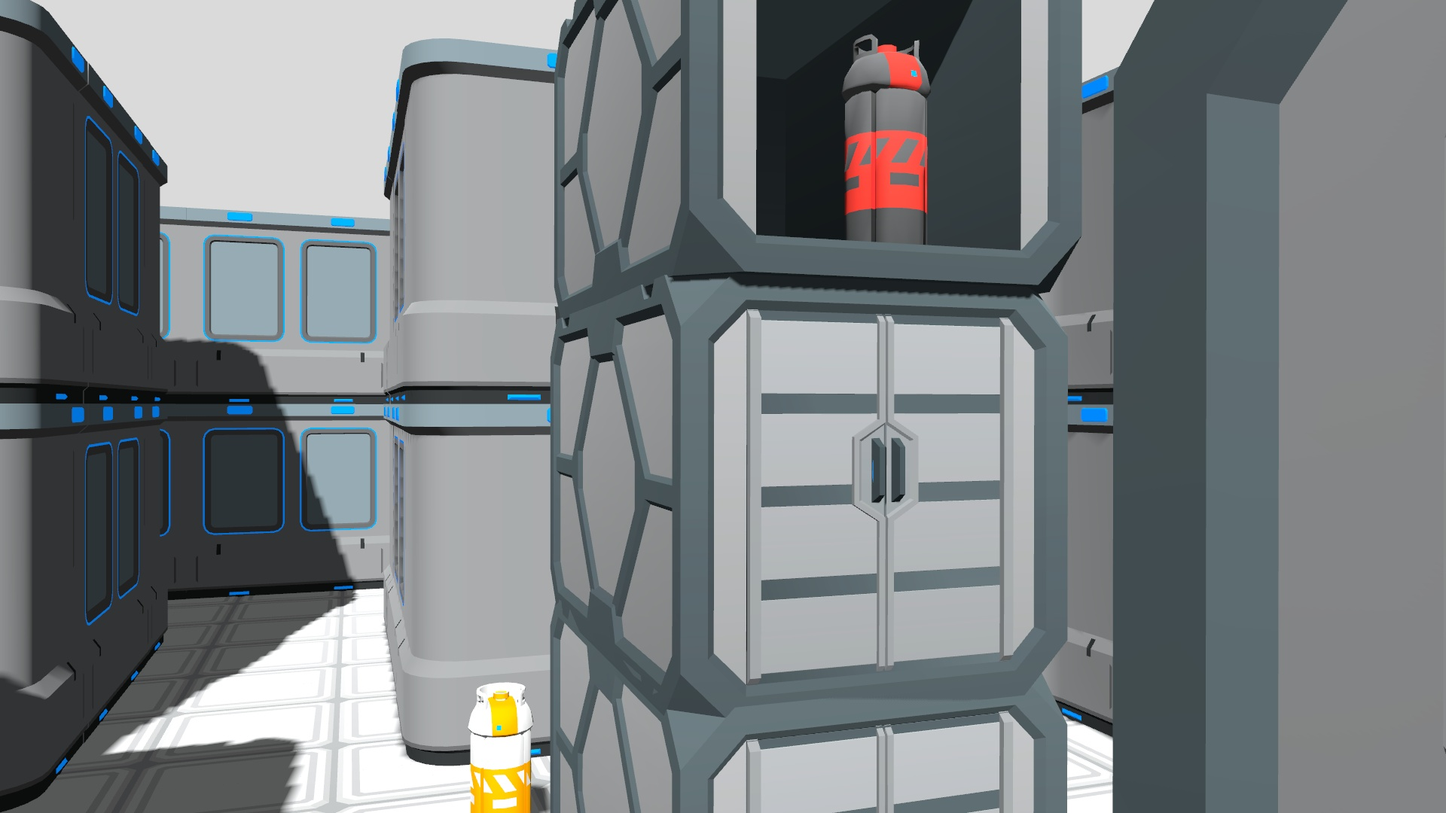red_barrel: (836, 32, 934, 250)
yellow_barrel: (463, 679, 538, 812)
